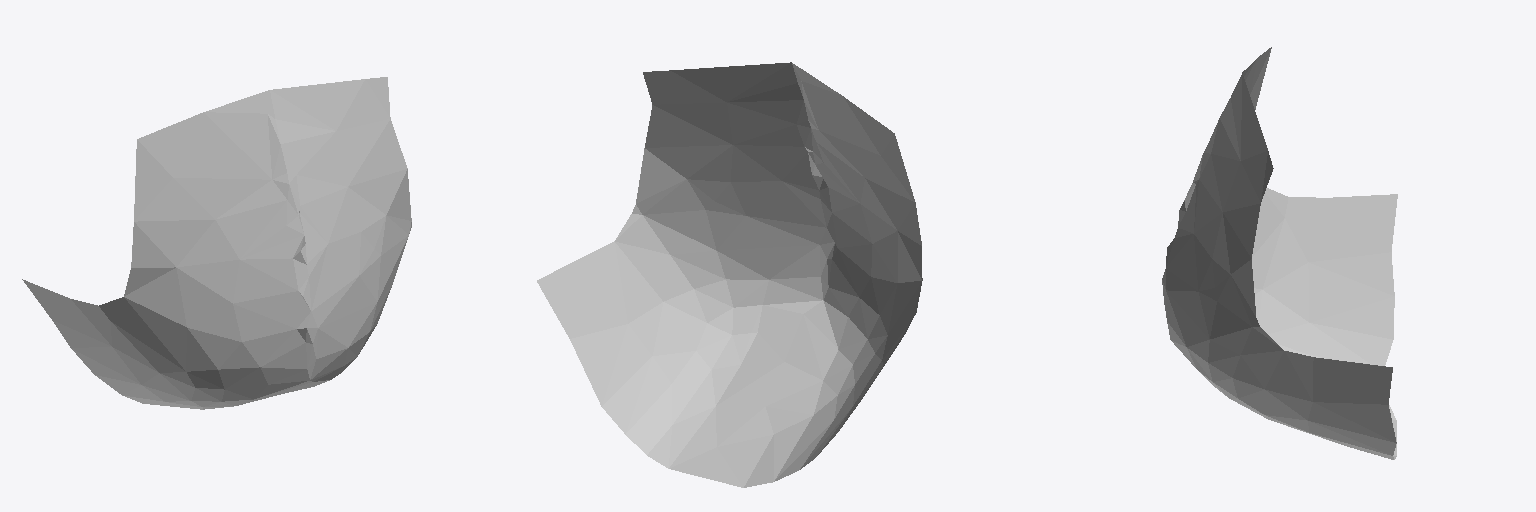
Rendered from growth_mesh1.obj.
3 renders of one model, left to right at view 1: azimuth 30°, elevation 25°; view 2: azimuth 150°, elevation 25°; view 3: azimuth 270°, elevation 25°, orthographic.
Bounding box in the file's own units: 42.38 × 41.89 × 24.74.